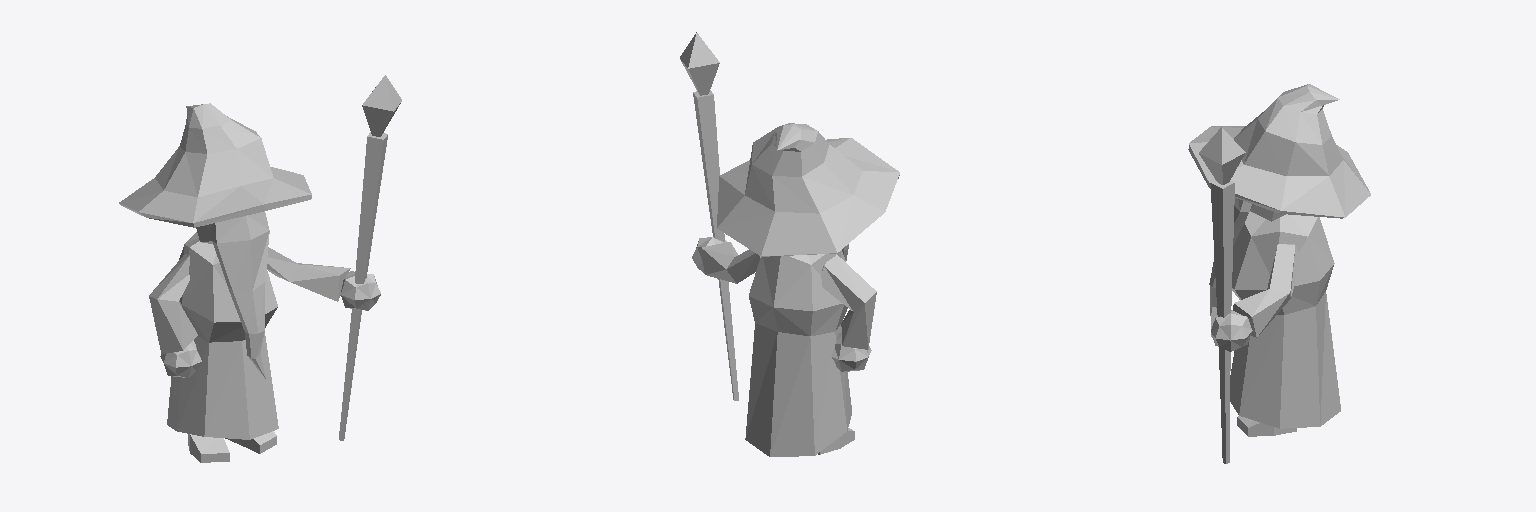
Rendered from magicien1.obj.
3 renders of one model, left to right at view 1: azimuth 30°, elevation 25°; view 2: azimuth 150°, elevation 25°; view 3: azimuth 270°, elevation 25°, orthographic.
Parts seen in each view (by area): view 1: Cube.002_0; view 2: Cube.002_0; view 3: Cube.002_0.
Part boxes in pixels (x1,y1,x2,y2): Cube.002_0: (119, 75, 401, 462); Cube.002_0: (680, 32, 899, 456); Cube.002_0: (1188, 84, 1370, 463).
Size of the model in its own units: 1.45 by 2.1 by 0.9773.